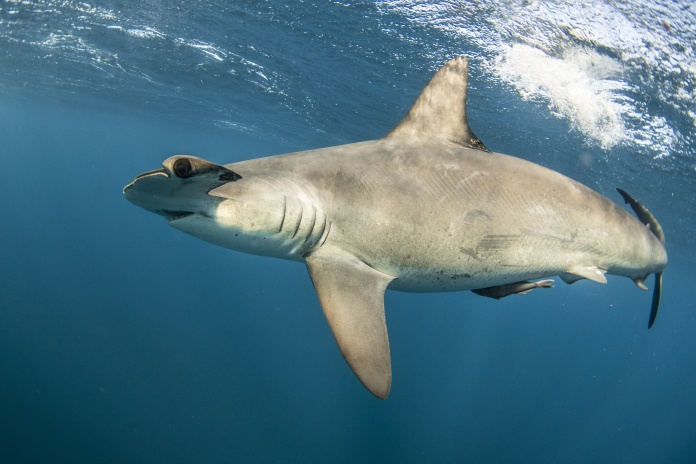Hammer: (93, 52, 694, 403)
